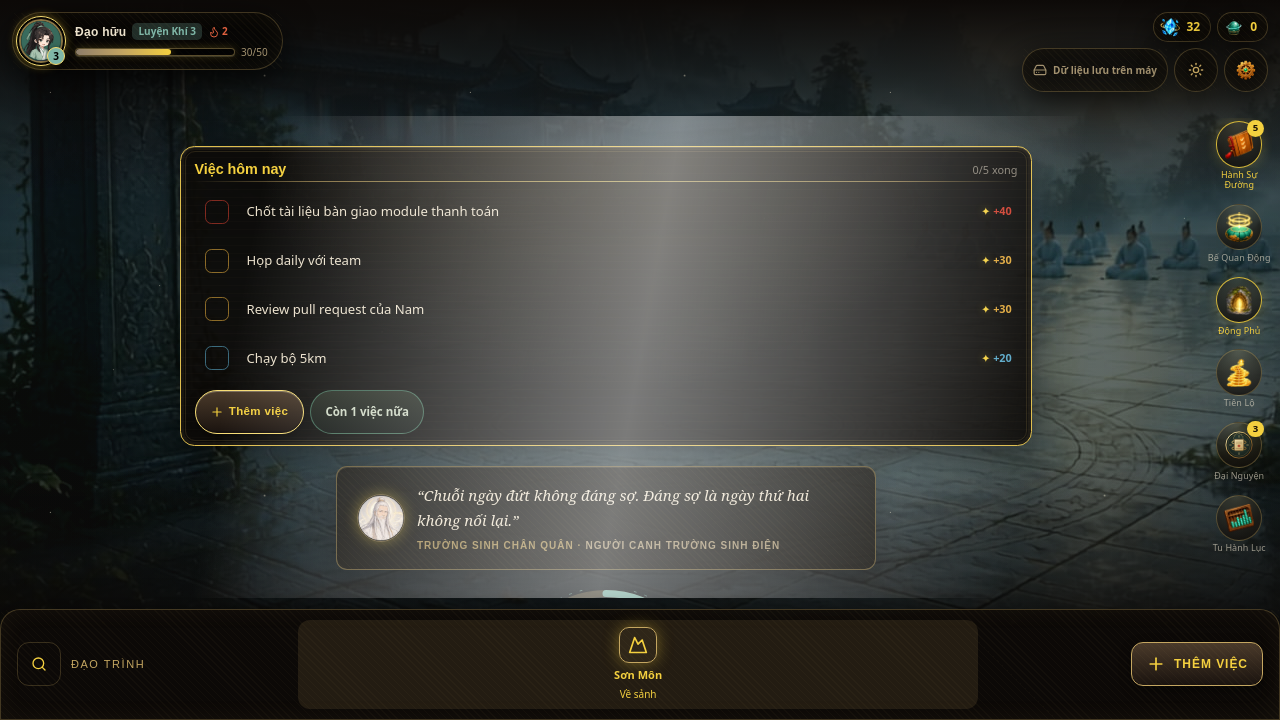
Scenario: Ứng dụng web › giữ một menu Bế Quan và không lặp nút chung ở sảnh
The image size is (1280, 720).
Check: the button "Bế quan tu luyện" is not shown
Step 1. Click the button "Bế Quan Động" → (1239, 234), box [1206,201,1272,266]
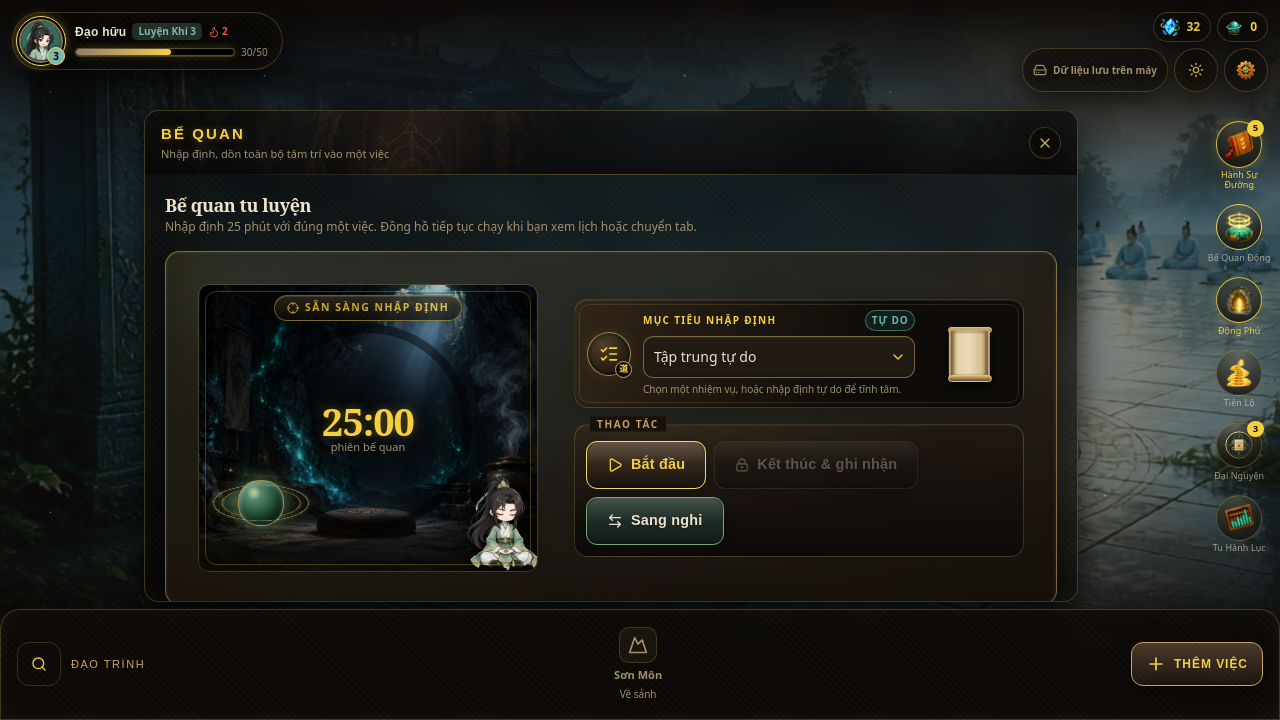
Check: the heading "Bế quan tu luyện" is shown, box [165,193,311,217]
Step 2. Click the button "Sơn Môn Về sảnh" → (638, 664), box [298,620,978,709]
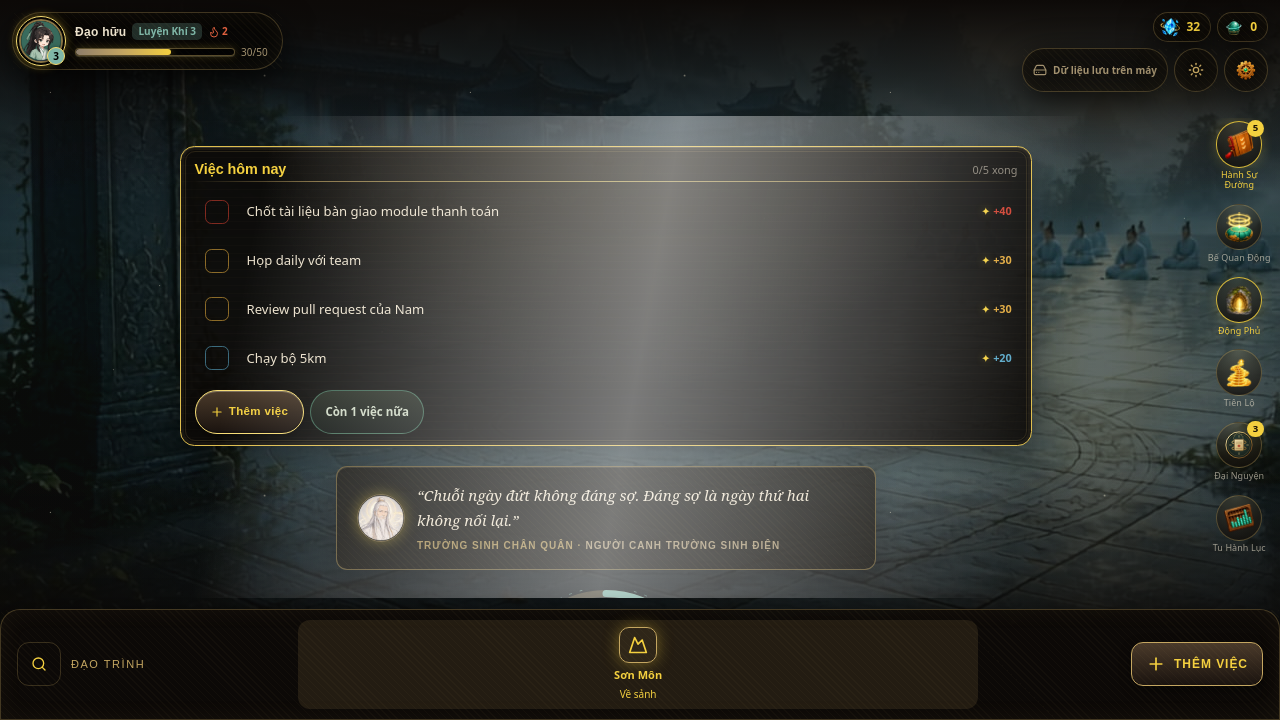
Check: the button with aria-label "Tập trung việc này" is shown, box [241,190,1017,234]
